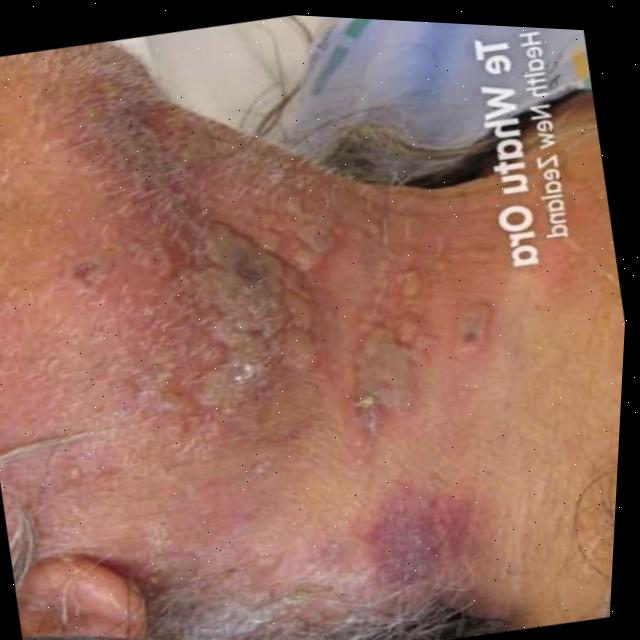Shingles: (134, 161, 525, 470)
